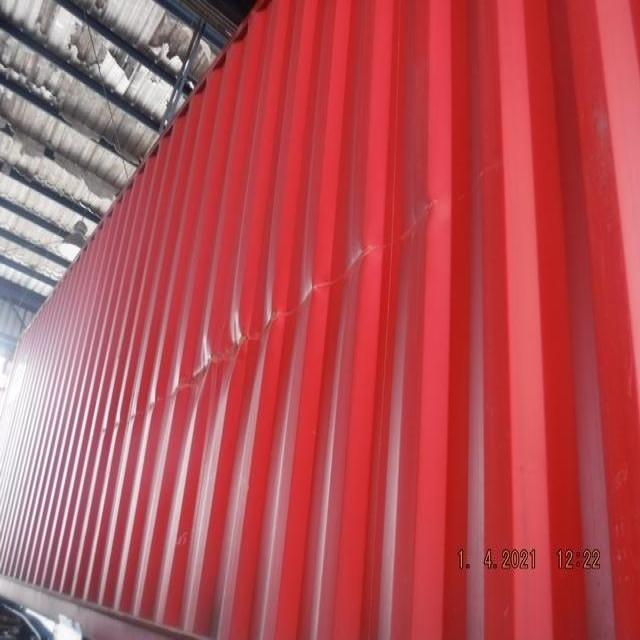dent: (141, 228, 384, 429)
